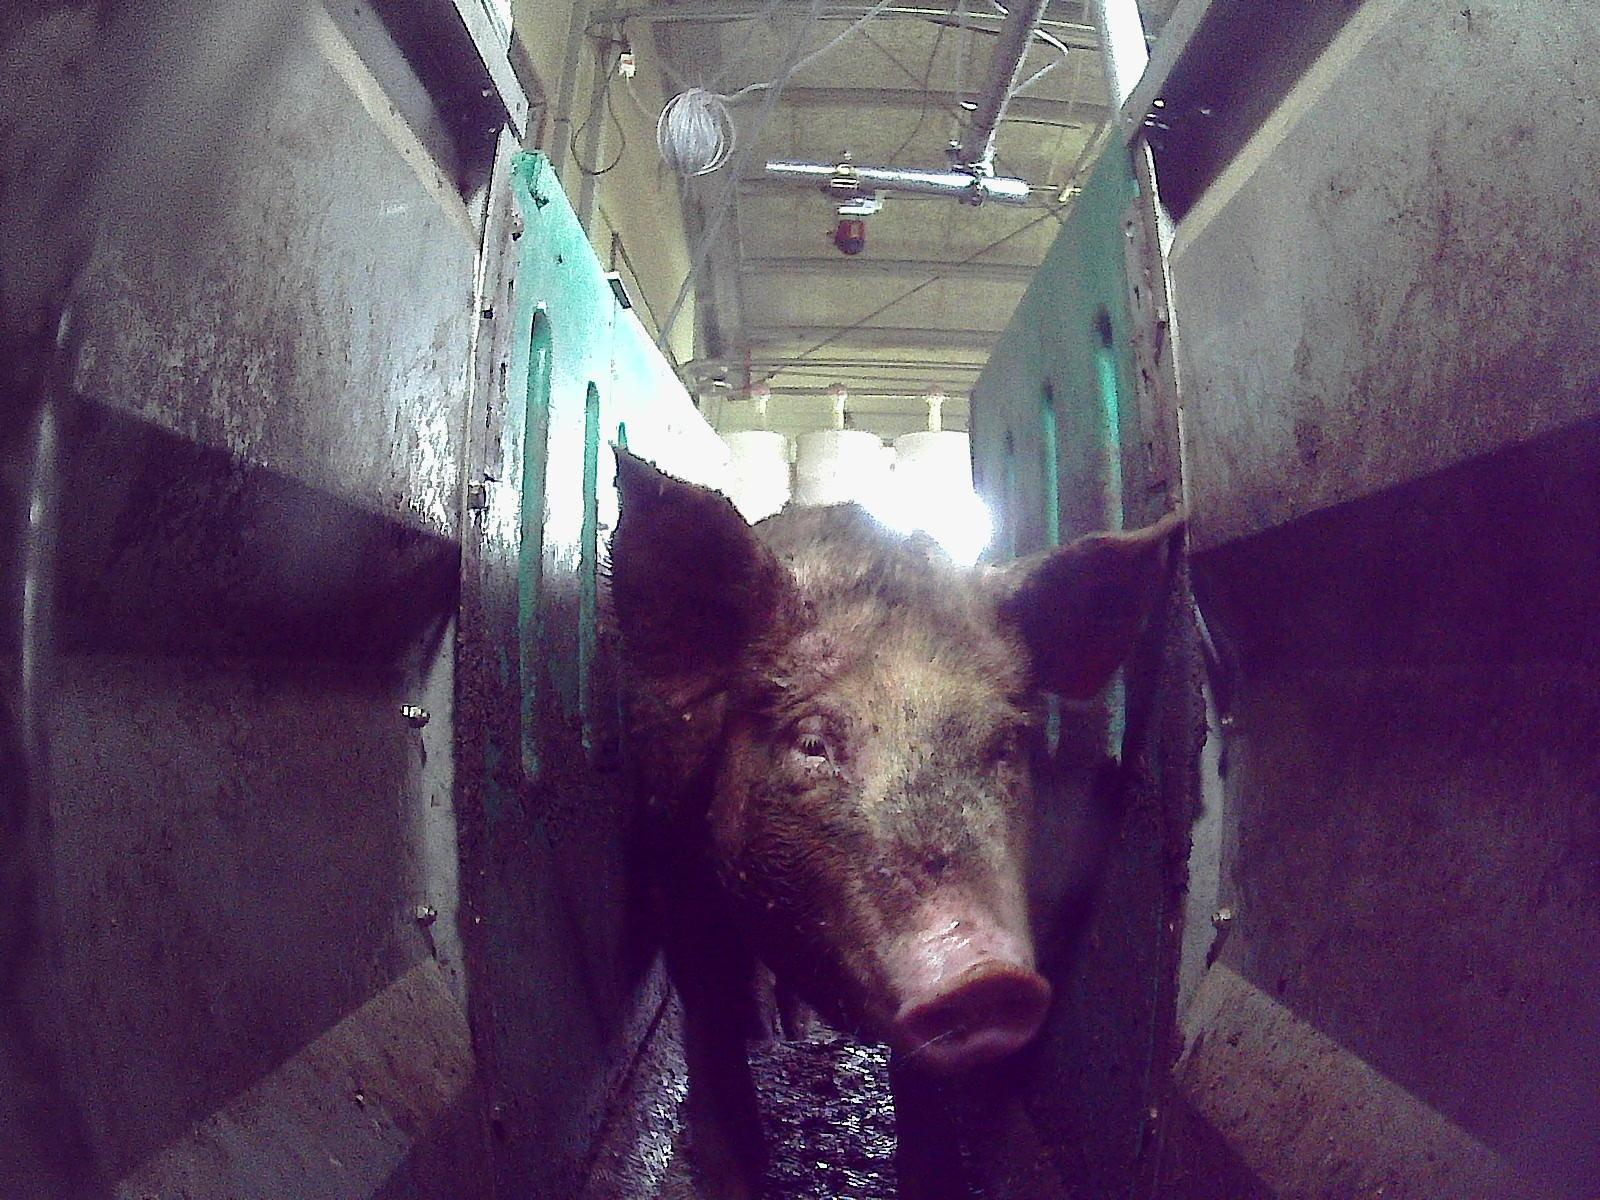Face: (707, 587, 1055, 1069)
